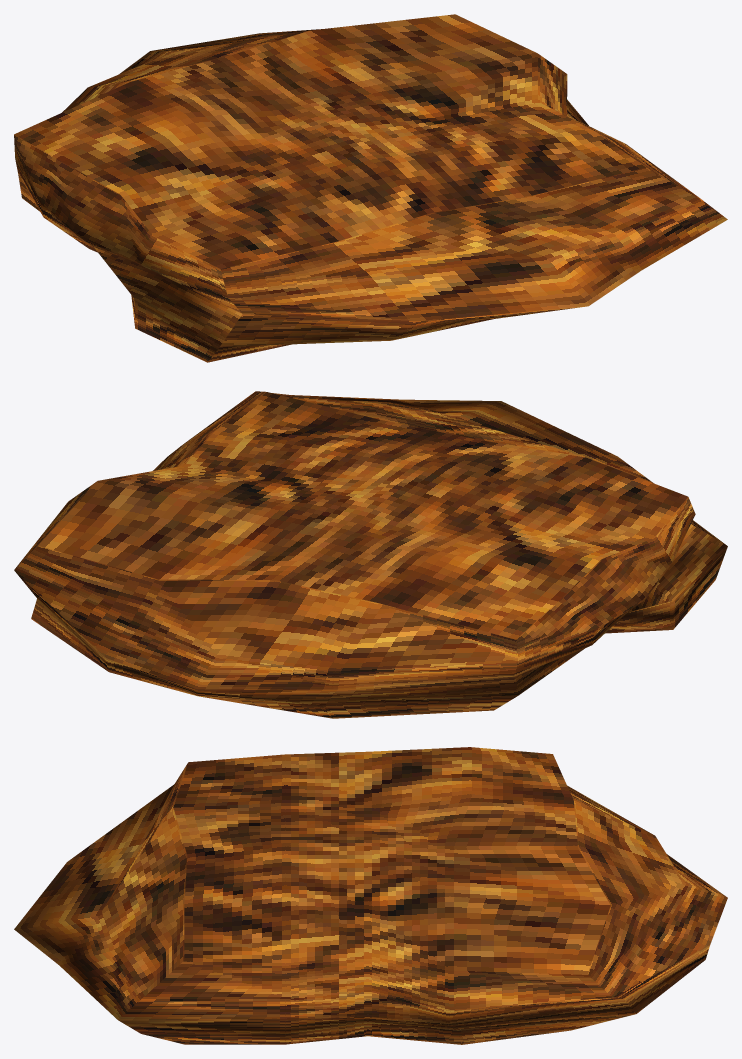
Rendered from sirena_hairclump.fbx.
3 views of the same model, one above another, from view 1: azimuth 30°, elevation 25°; view 2: azimuth 150°, elevation 25°; view 3: azimuth 270°, elevation 25° (orthographic). The views are drawn at different scales.
Visible parts, largest first — view 1: sirena_hairclump; view 2: sirena_hairclump; view 3: sirena_hairclump.
Boxes of the visible parts, x1,y1,x2,y2 form: sirena_hairclump: [14, 14, 727, 362]; sirena_hairclump: [14, 391, 727, 718]; sirena_hairclump: [14, 747, 727, 1044].
Bounding box in the file's own units: 22.16 × 4.71 × 26.72.
Materials: 1 (1 with a texture image).
